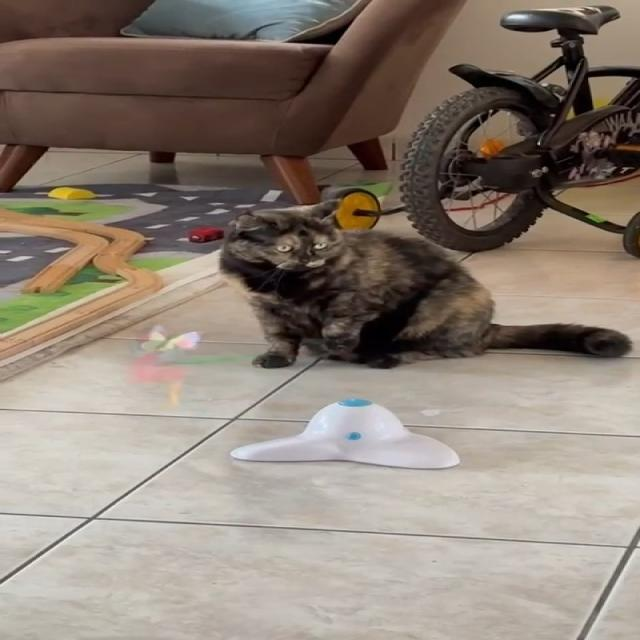authorized: (216, 192, 632, 369)
